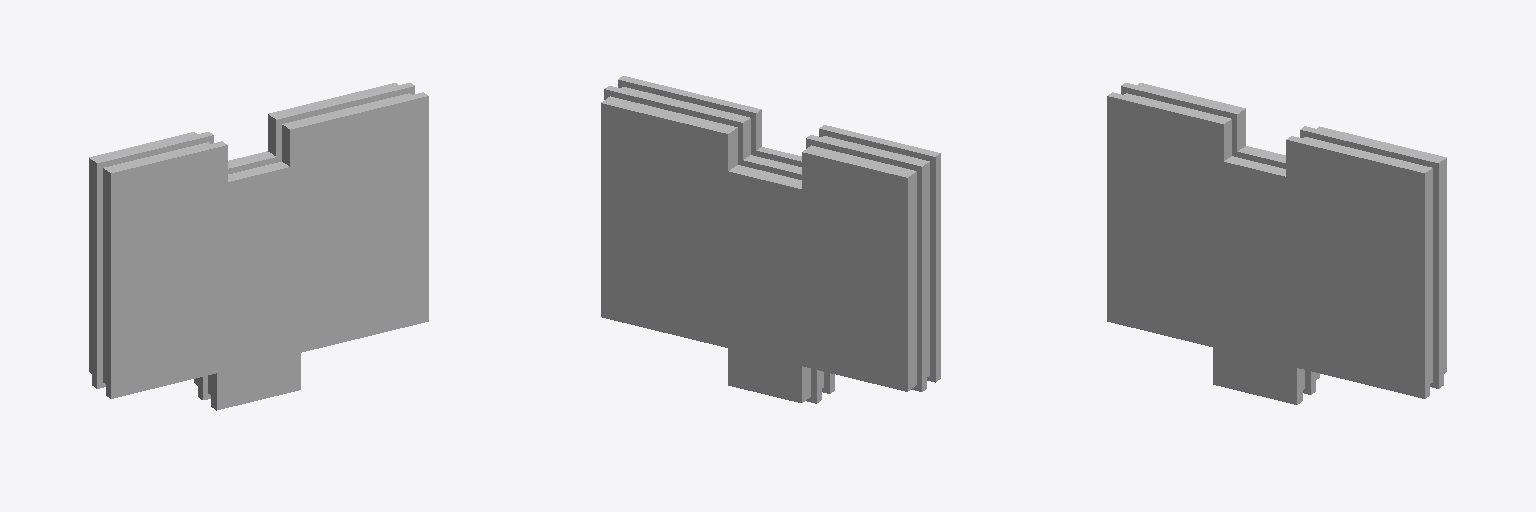
Rendered from ComplexBuilding_CorrectAxis.obj.
3 renders of one model, left to right at view 1: azimuth 30°, elevation 25°; view 2: azimuth 150°, elevation 25°; view 3: azimuth 330°, elevation 25°, orthographic.
Visible parts, largest first — view 1: Cube.001_Cube.006; view 2: Cube.001_Cube.006; view 3: Cube.001_Cube.006.
Boxes of the visible parts, x1=… form: Cube.001_Cube.006: x1=89, y1=83, x2=428, y2=410; Cube.001_Cube.006: x1=601, y1=76, x2=940, y2=403; Cube.001_Cube.006: x1=1107, y1=83, x2=1446, y2=404.
Size of the model in its own units: 54.43 by 43.03 by 8.24.